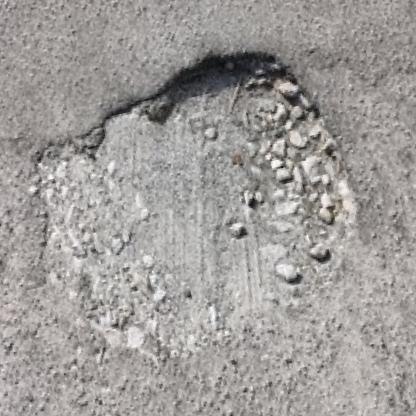pothole: (15, 28, 380, 372)
